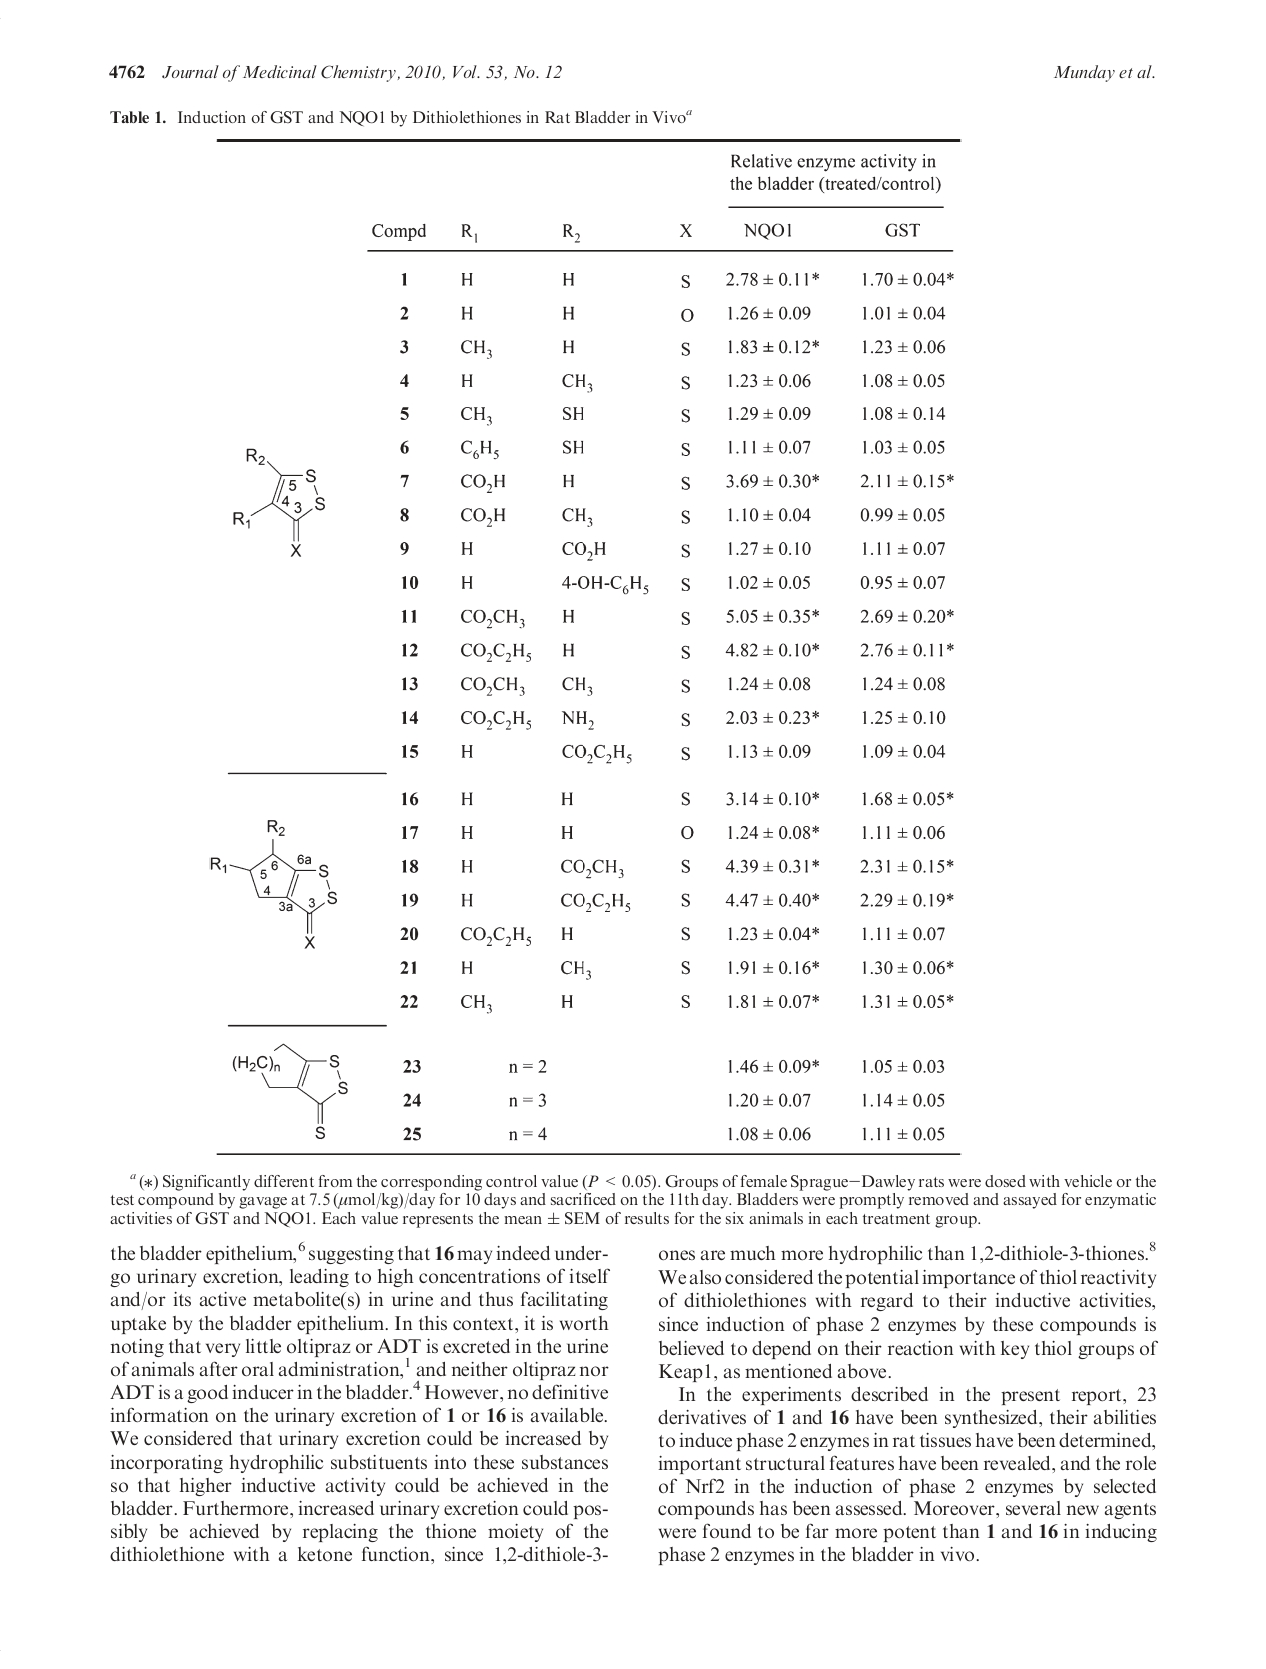exist_molecular: (207, 813, 338, 951), (226, 446, 331, 560), (231, 1043, 352, 1138)
